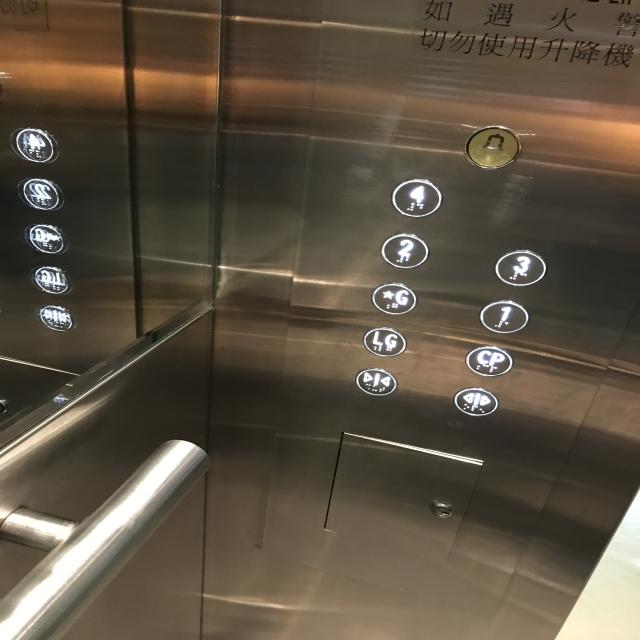1: (477, 299, 529, 334)
2: (379, 231, 430, 269)
3: (492, 248, 547, 286)
4: (391, 178, 442, 218)
CP: (464, 345, 514, 377)
LG: (360, 326, 408, 358)
alarm: (462, 124, 522, 171)
close: (353, 366, 398, 396)
open: (450, 387, 500, 418)
sG: (370, 280, 418, 316)
unknown: (12, 126, 58, 164), (18, 176, 64, 212), (23, 221, 69, 255), (36, 303, 77, 332), (32, 266, 74, 294)
